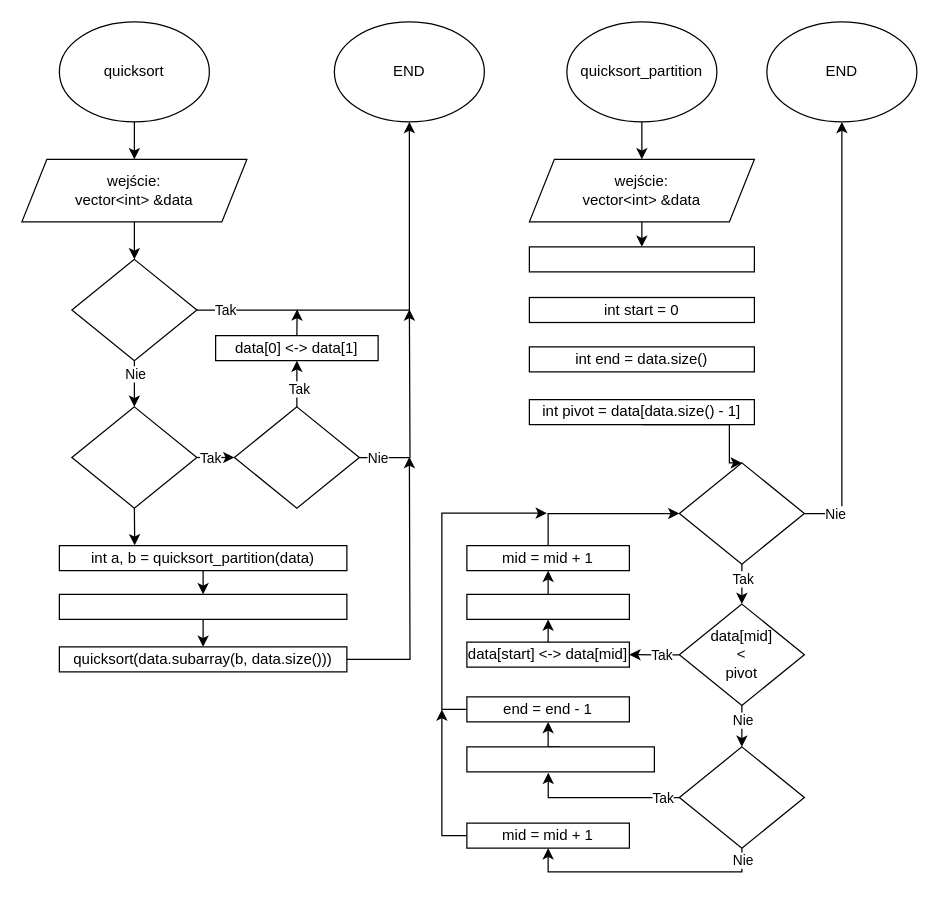
This 939x904 diagram has some shape labels left out. Each missing label, with the box of its shape:
data.size() <= 1: (71, 258, 197, 361)
data.size() == 2: (71, 406, 197, 508)
data[0] > data[1]: (233, 406, 359, 508)
data[mid] <-> data[end - 1]: (466, 746, 654, 772)
data[mid] > pivot: (678, 746, 804, 848)
int mid = 0: (528, 246, 754, 272)
mid != end: (678, 462, 804, 564)
quicksort(data.subarray(0, a)): (58, 593, 347, 619)
start = start + 1: (466, 593, 629, 619)
